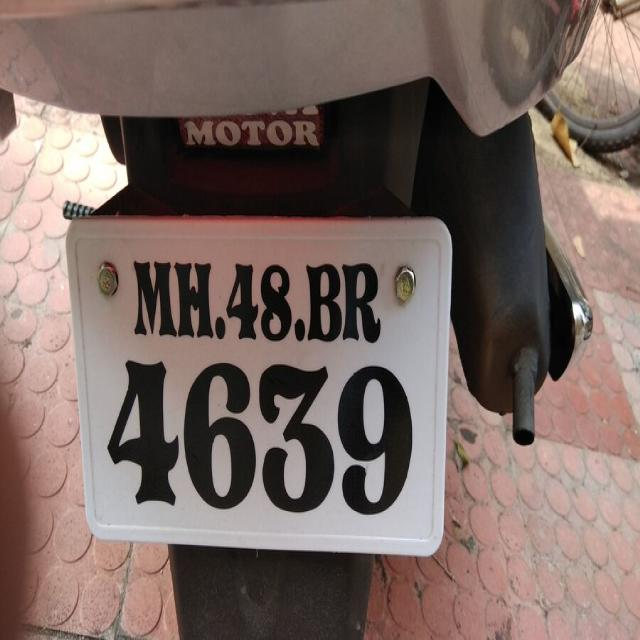license_plate: (64, 208, 453, 556)
